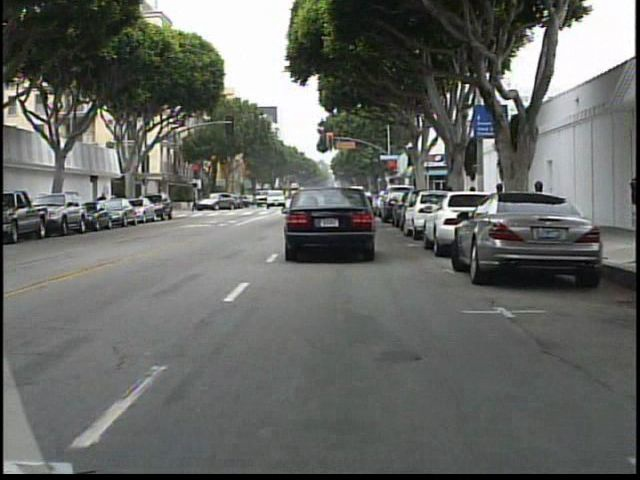person: (96, 189, 113, 223), (188, 191, 202, 215)
